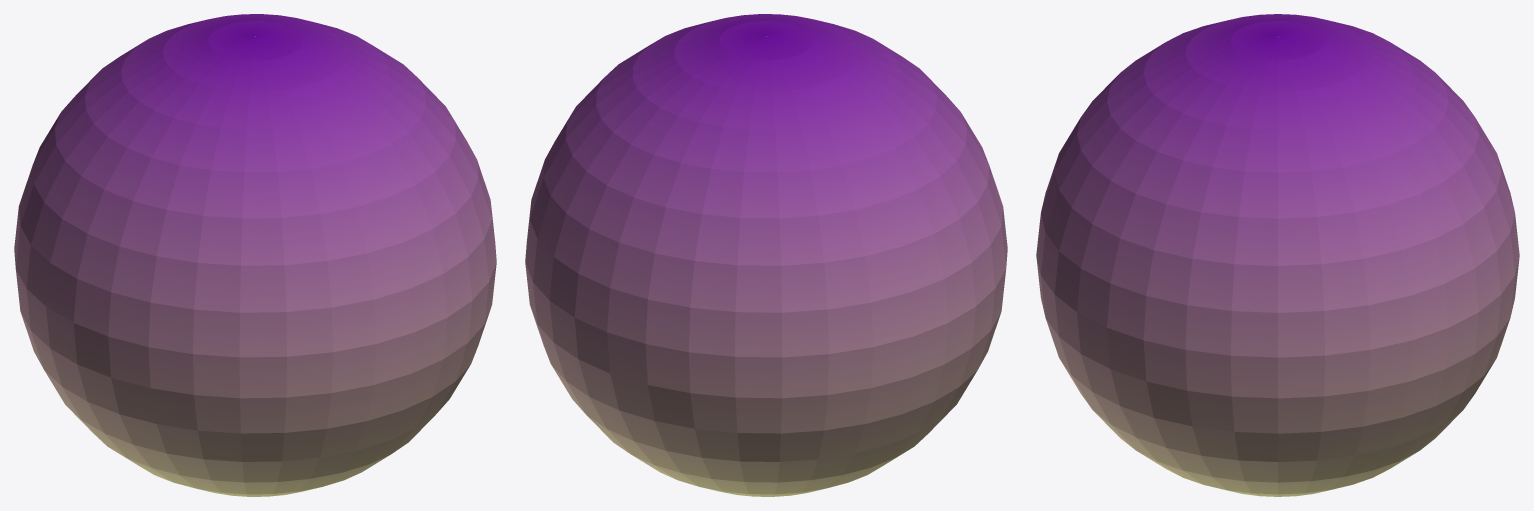
File: skydome.obj
The picture shows the model from 3 angles, left to right: view 1: azimuth 30°, elevation 25°; view 2: azimuth 150°, elevation 25°; view 3: azimuth 270°, elevation 25°; orthographic projection.
Visible parts, largest first — view 1: 球; view 2: 球; view 3: 球.
Part boxes in pixels (x1,y1,x2,y2): 球: (14, 14, 496, 496); 球: (525, 14, 1007, 496); 球: (1036, 14, 1519, 496).
Size of the model in its own units: 1000 by 1000 by 1000.
